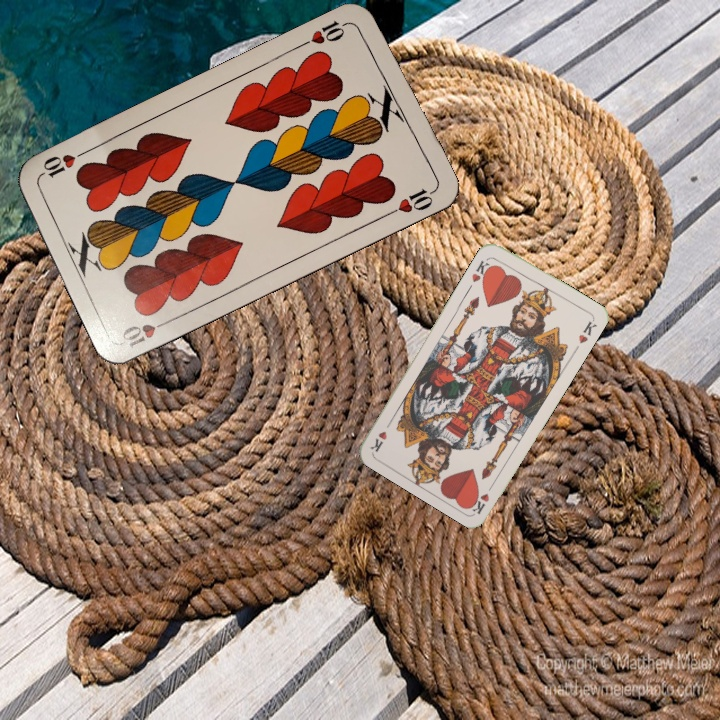H10: (116, 315, 175, 352), (297, 16, 353, 49)
HK: (466, 478, 498, 516), (467, 254, 495, 285)
